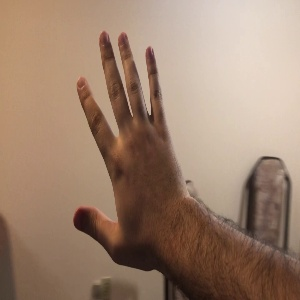hand: (74, 32, 192, 254)
